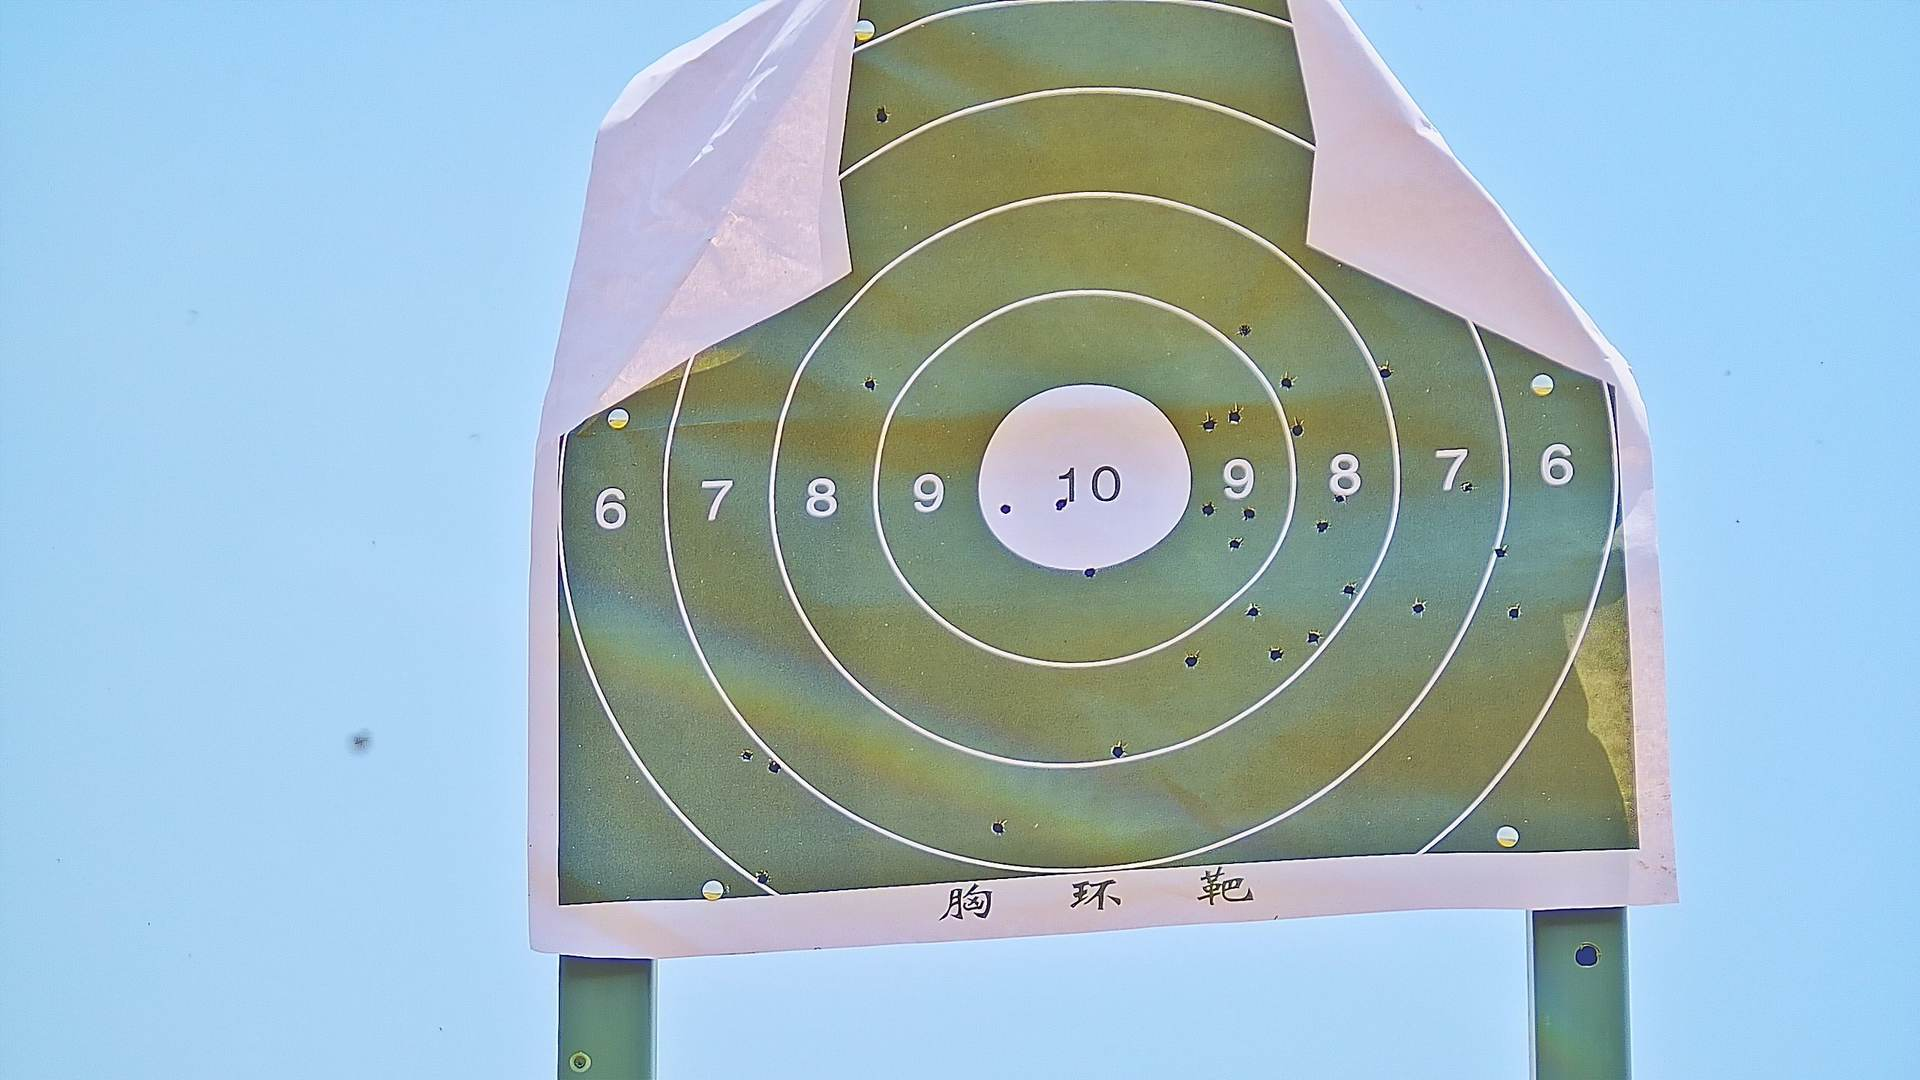hole: (1226, 535, 1244, 550), (1458, 479, 1476, 493), (1226, 407, 1240, 426), (1342, 582, 1357, 597), (1280, 375, 1294, 392), (1292, 419, 1305, 436), (1305, 629, 1320, 644), (876, 107, 889, 123), (864, 378, 880, 392), (767, 760, 781, 775), (1055, 497, 1068, 513), (1083, 566, 1098, 579), (1244, 504, 1257, 520), (1269, 646, 1284, 659), (1315, 520, 1331, 533), (1411, 599, 1424, 613), (1494, 545, 1509, 558), (1507, 604, 1520, 618), (756, 868, 767, 884), (1184, 654, 1200, 666), (1203, 417, 1215, 433), (1332, 491, 1348, 502), (1247, 605, 1261, 618), (993, 822, 1005, 835), (1112, 744, 1124, 757), (998, 502, 1013, 513), (1203, 501, 1213, 514), (1379, 365, 1391, 376), (1240, 323, 1249, 336), (742, 750, 752, 761)
kernel: (1083, 480, 1087, 487)
target: (556, 1, 1644, 899)
ten: (971, 378, 1189, 576)
